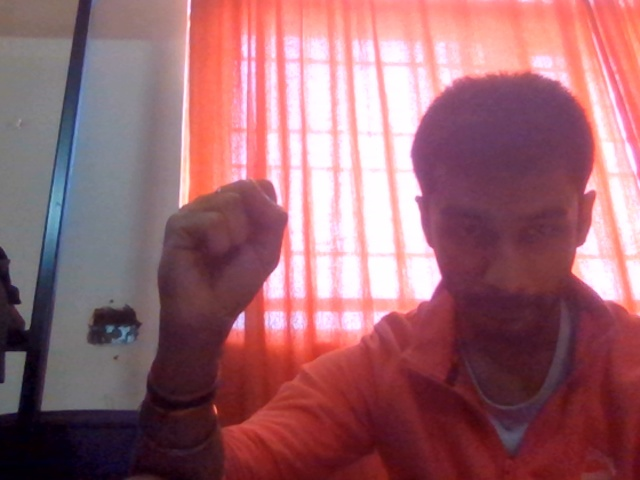S: (140, 167, 316, 412)
